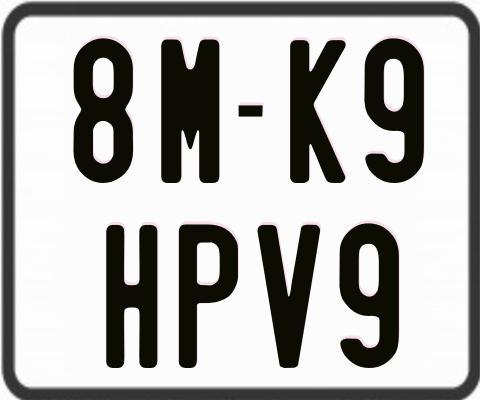8: (71, 35, 132, 182)
9: (338, 222, 404, 371), (364, 35, 424, 180)
H: (106, 223, 157, 366)
K: (289, 40, 350, 183)
M: (161, 38, 225, 184)
P: (176, 224, 236, 371)
V: (256, 223, 322, 369)
